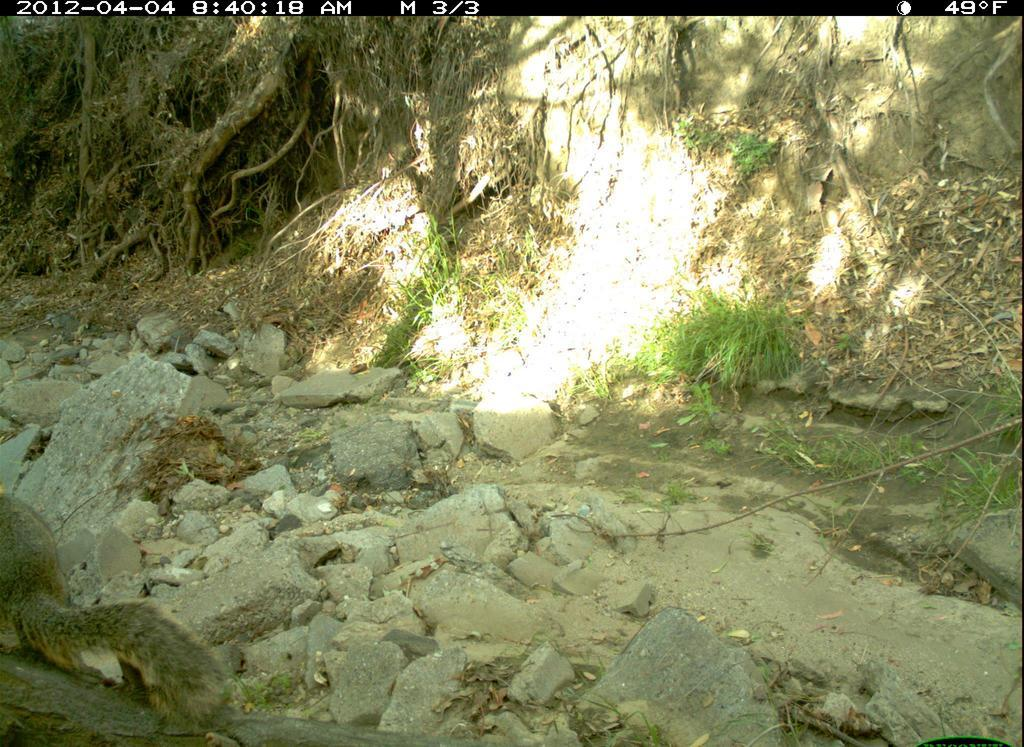squirrel: (4, 469, 258, 747)
